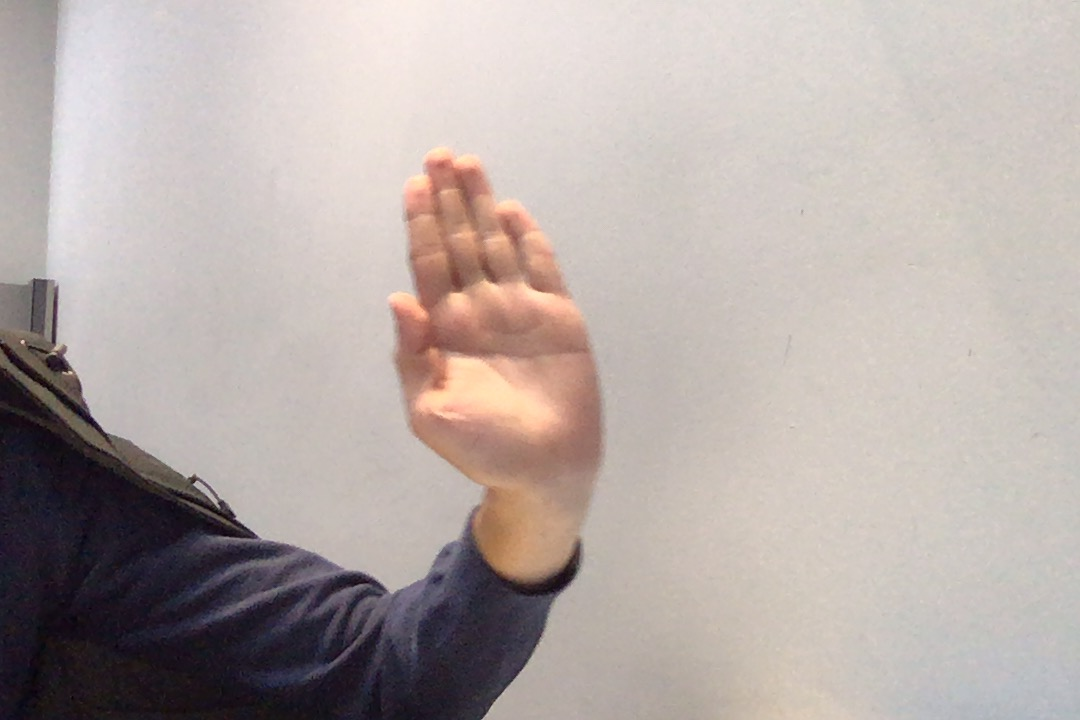palmhand: (359, 123, 640, 508)
